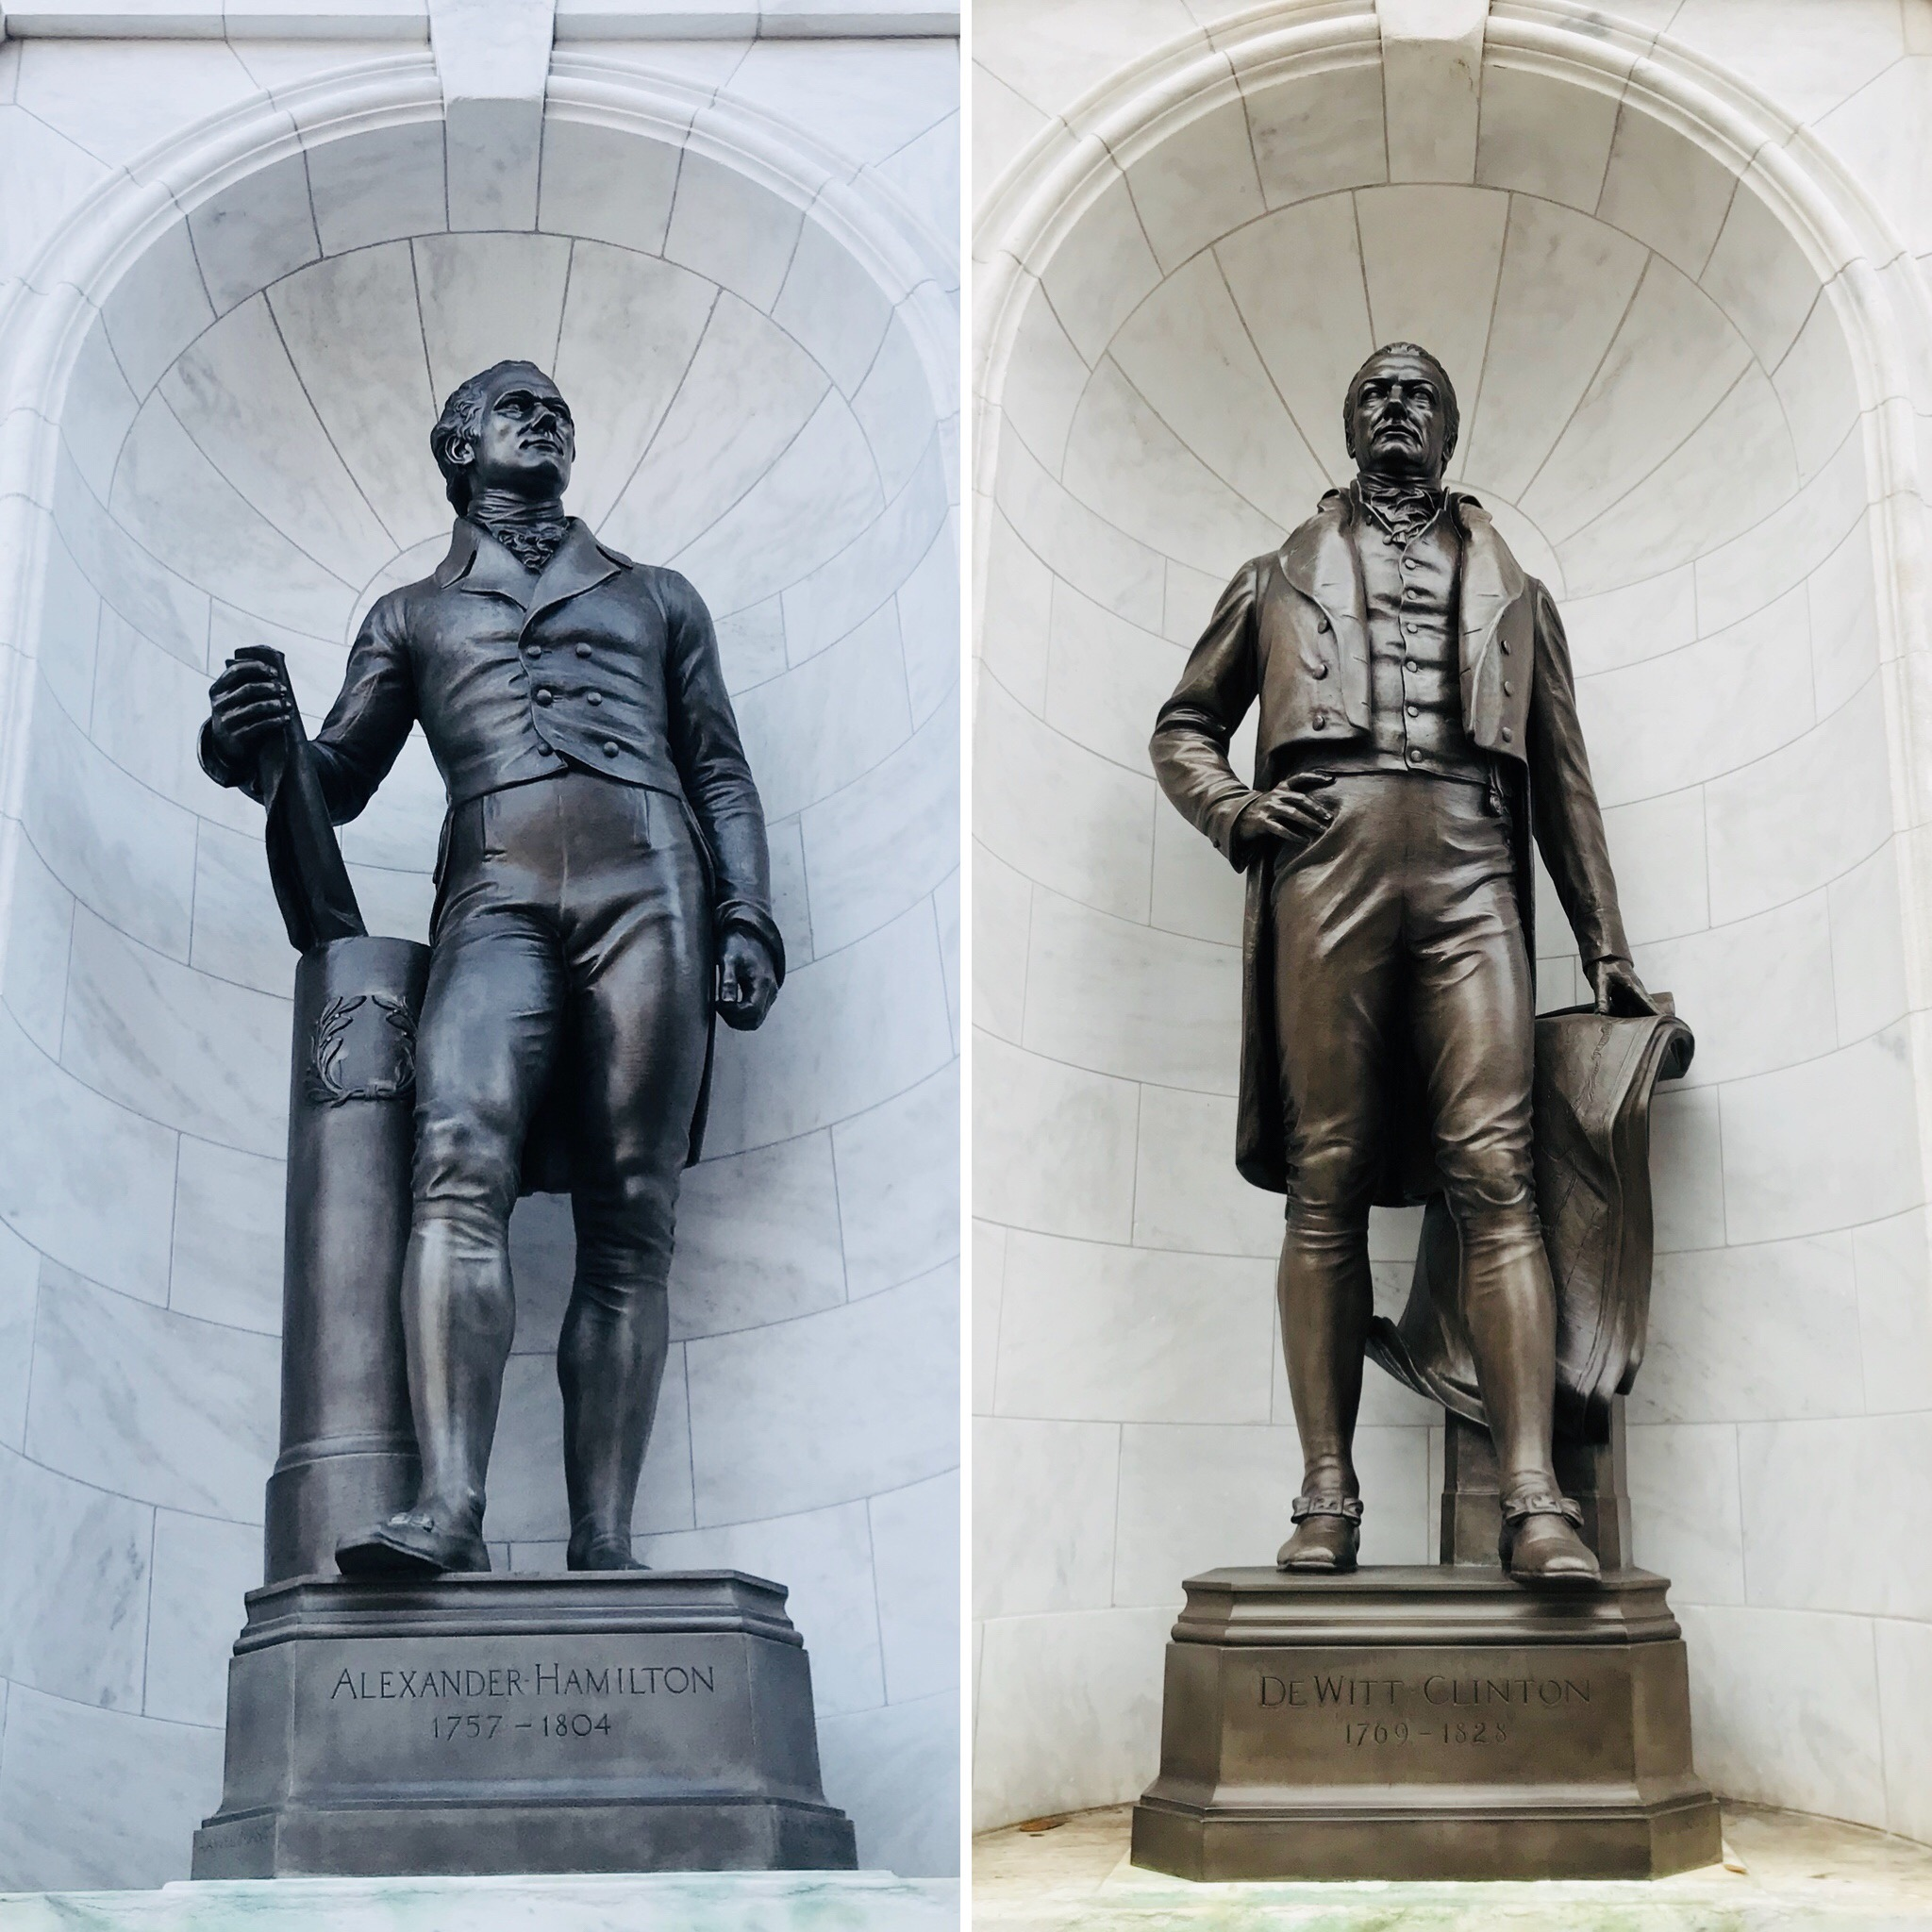person-like: (181, 338, 812, 1602), (1129, 312, 1687, 1595)
